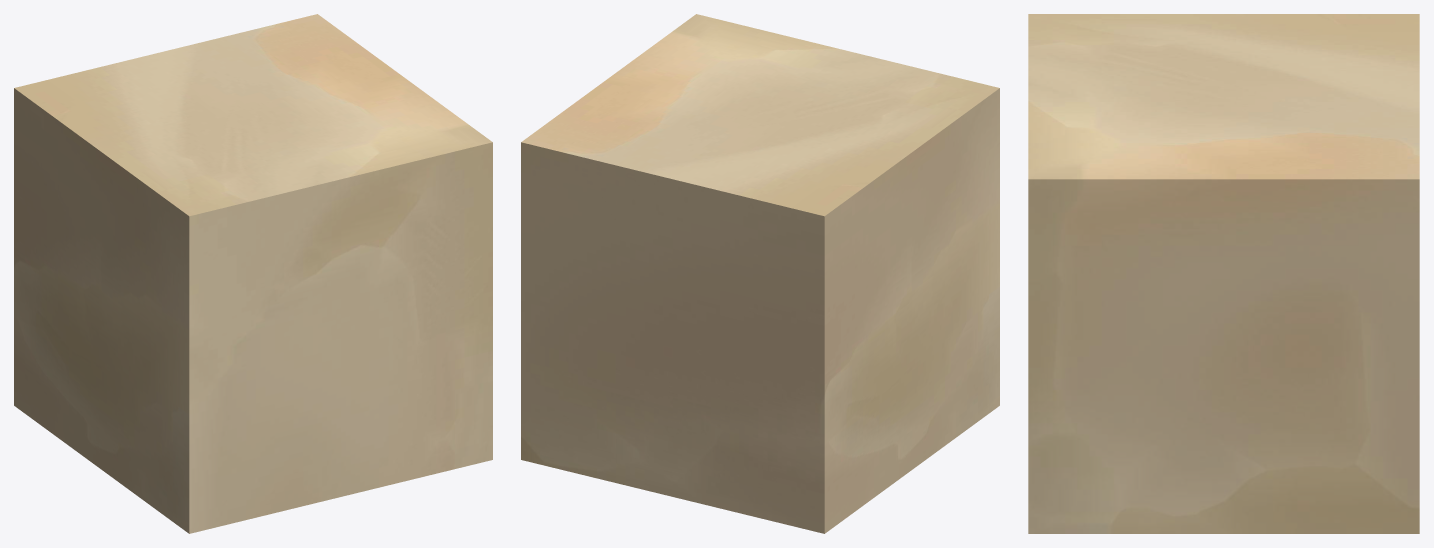
Rendered from ayamdadu.glb.
3 views of the same model, side by side, from view 1: azimuth 30°, elevation 25°; view 2: azimuth 150°, elevation 25°; view 3: azimuth 270°, elevation 25° (orthographic). The views are drawn at different scales.
Parts seen in each view (by area): view 1: Cube.001; view 2: Cube.001; view 3: Cube.001.
Part boxes in pixels (<box>): Cube.001: <box>14,14,492,533</box>; Cube.001: <box>521,14,999,533</box>; Cube.001: <box>1028,14,1419,533</box>.
Size of the model in its own units: 0.1343 by 0.1343 by 0.1343.
Materials: 1 (1 with a texture image).
